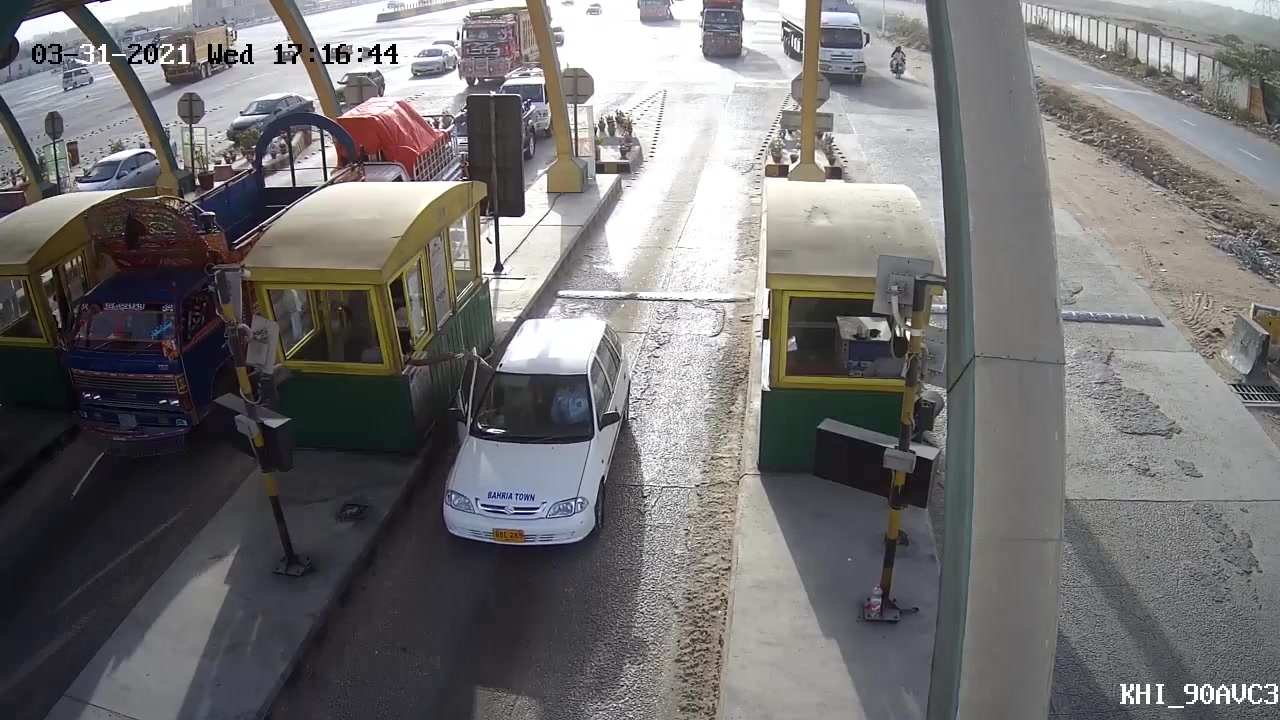F1: (434, 316, 640, 560)
